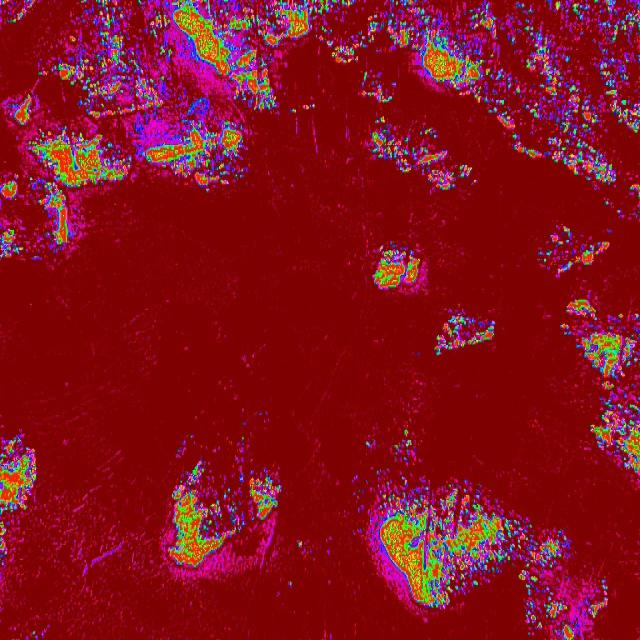fire: (0, 0, 252, 186), (311, 0, 640, 92), (361, 452, 528, 606), (165, 444, 284, 577), (562, 300, 640, 476), (483, 94, 640, 161), (522, 527, 605, 640), (367, 120, 479, 196), (252, 0, 311, 119), (0, 188, 85, 266), (0, 430, 37, 566), (536, 224, 612, 278), (436, 309, 496, 359), (372, 242, 424, 296), (563, 160, 640, 190)
